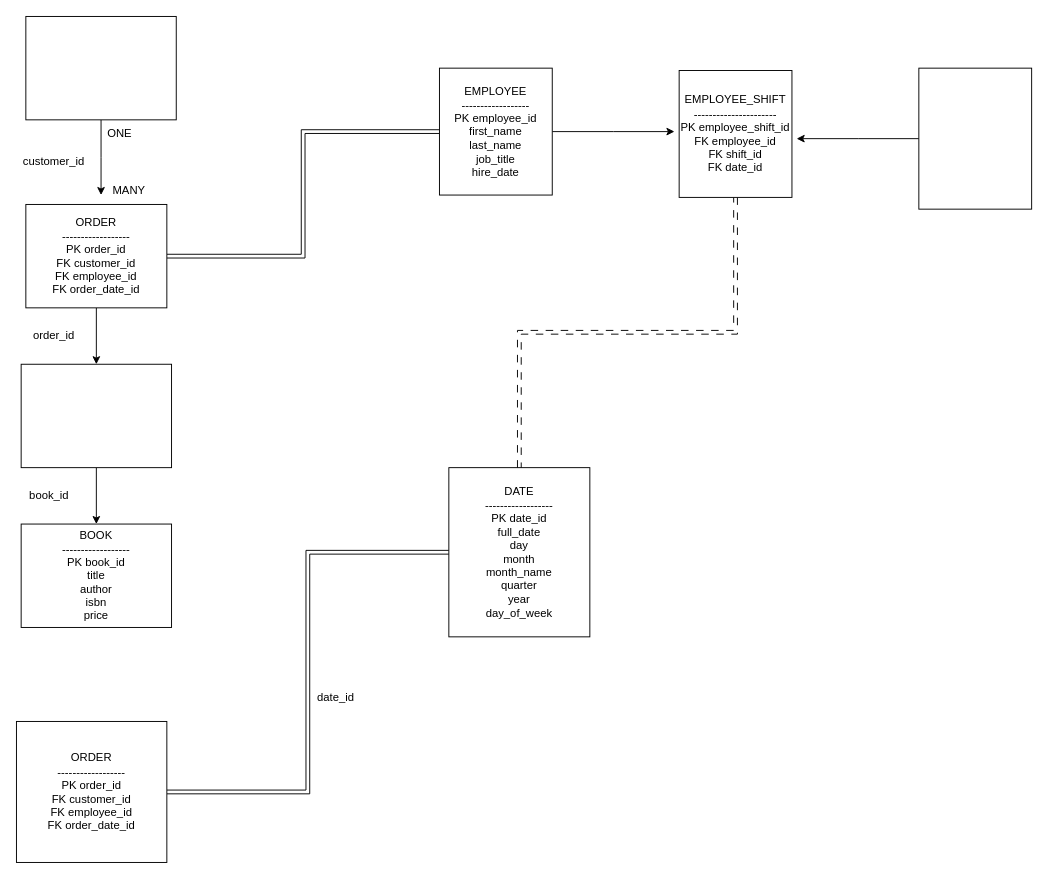
Some shapes in this 1048 by 879 pixel diagram are drawn without their labels. Each missing label, with the box of its shape:
CUSTOMER ------------------ PK customer_id first_name last_name email phone: (25, 16, 176, 120)
SALES ------------------ PK sale_id FK order_id FK book_id quantity unit_price: (20, 363, 172, 468)
SHIFT ------------------ PK shift_id shift_name start_time end_time: (918, 67, 1032, 209)
